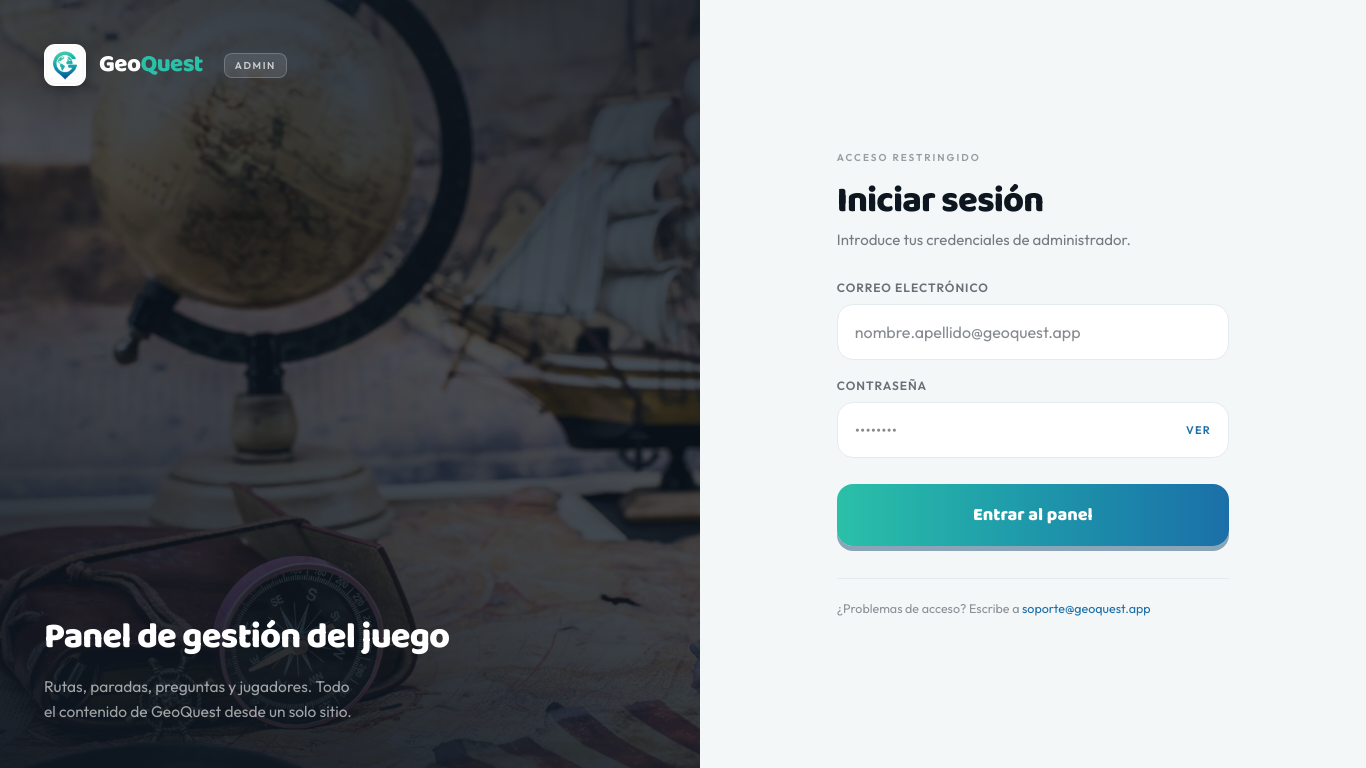
Test: Login › muestra un error explícito en credenciales inválidas y no navega
In the field labelled "Correo electrónico": [1033, 332] box [837, 304, 1229, 360], type "admin@geoquest.app"
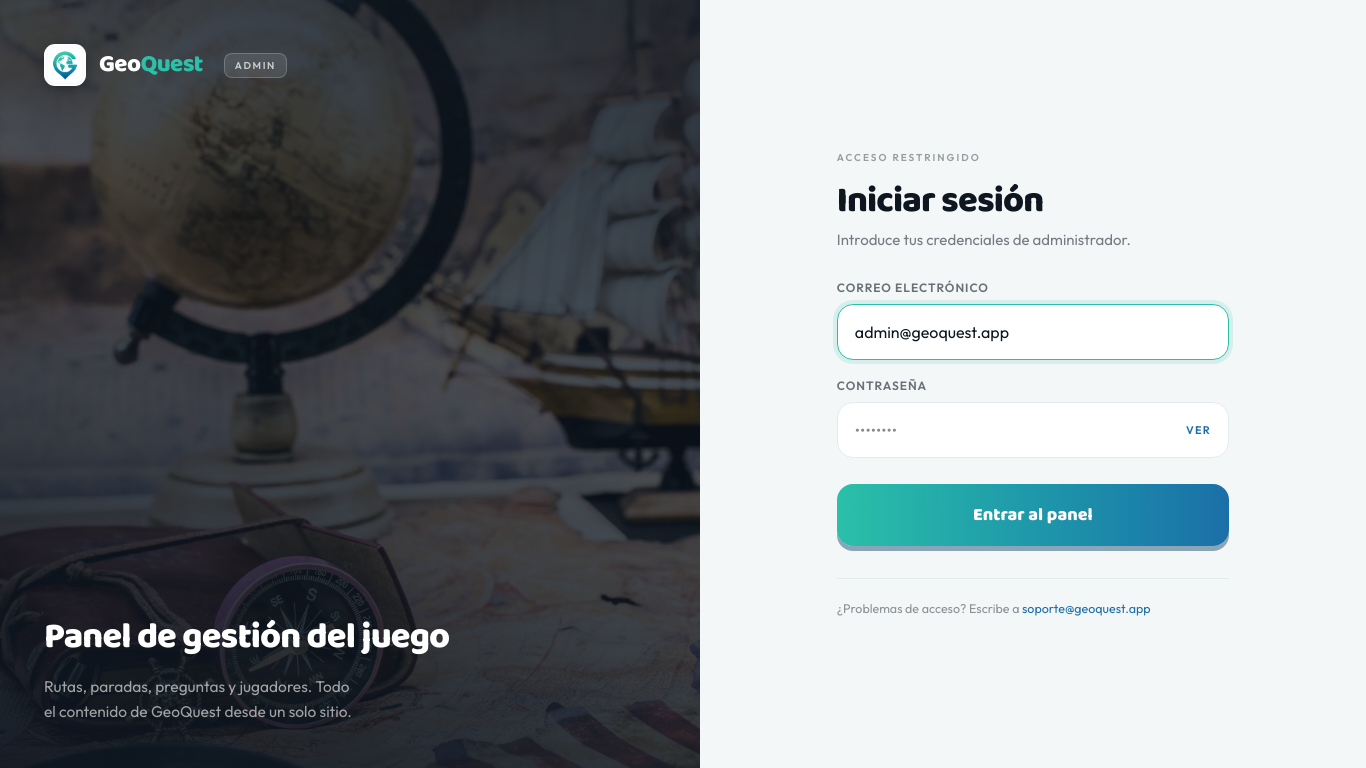
In the password field labelled "Contraseña Ver": [1033, 430] box [837, 402, 1229, 458], type "wrong-password"
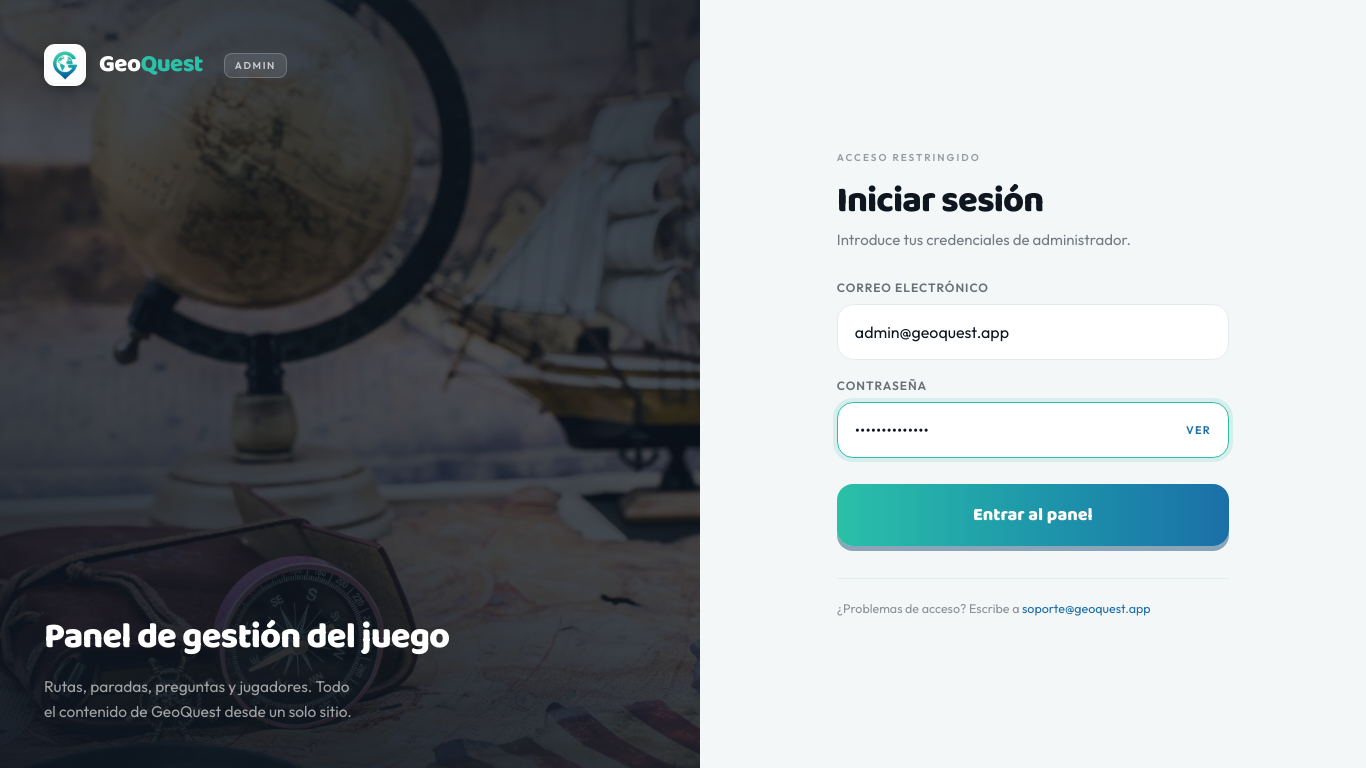
Click the button "Entrar al panel": [1033, 515] box [837, 484, 1229, 546]
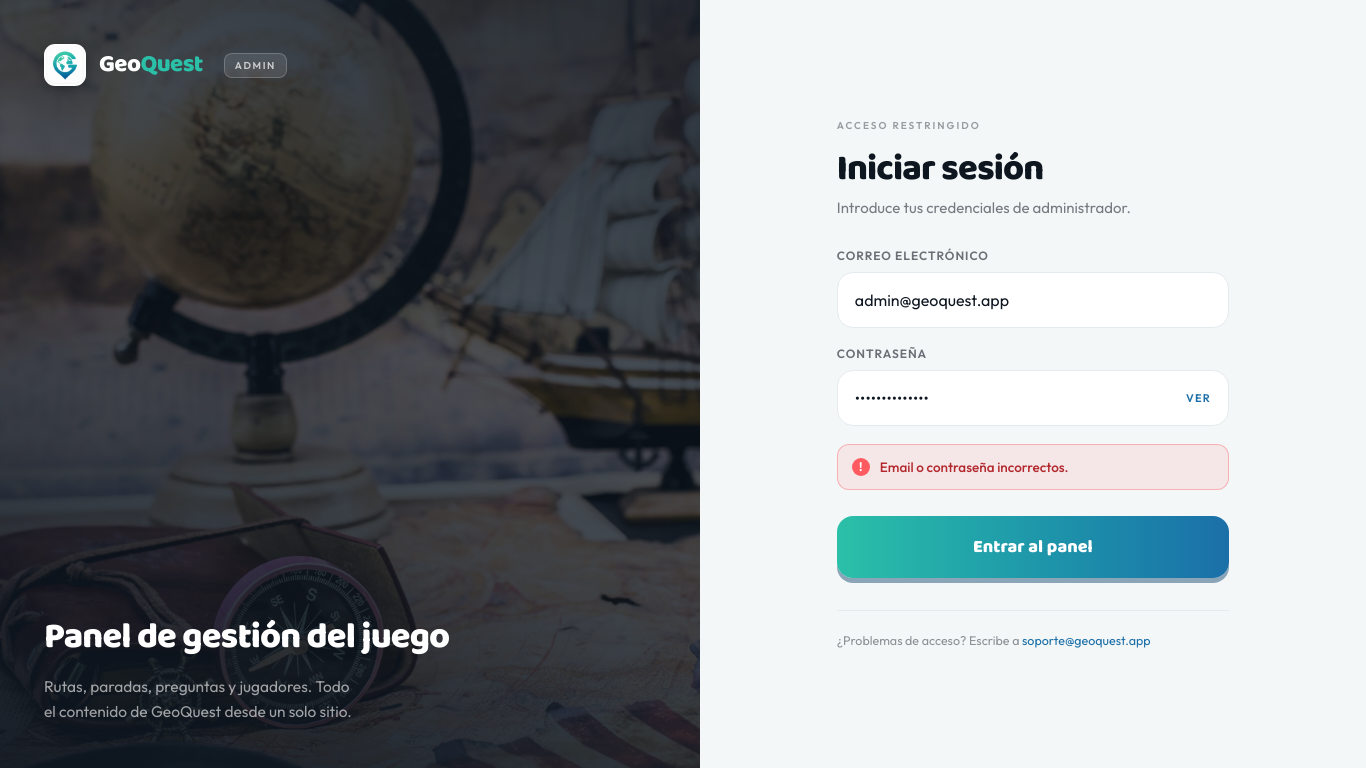
Expected: the text "Email o contraseña incorrectos." is shown, [880, 457, 1068, 477]
